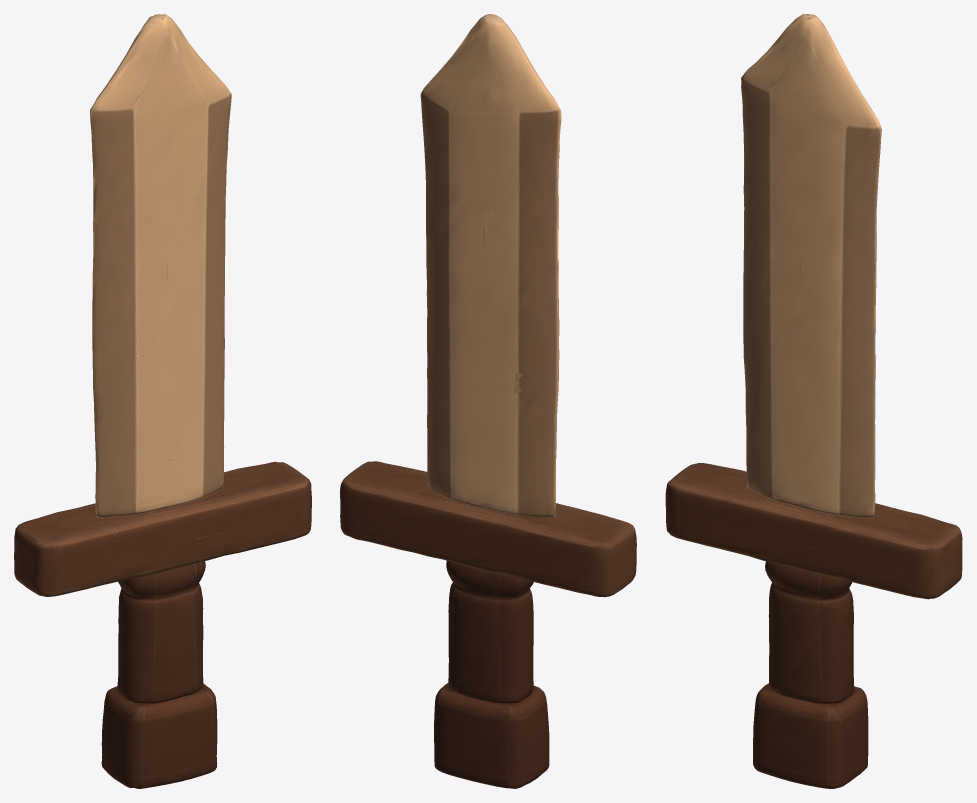
Rendered from 01_木板练习剑.fbx.
3 views of the same model, side by side, from view 1: azimuth 30°, elevation 25°; view 2: azimuth 150°, elevation 25°; view 3: azimuth 330°, elevation 25° (orthographic).
Visible parts, largest first — view 1: Mesh_0; view 2: Mesh_0; view 3: Mesh_0.
Boxes of the visible parts, left/top/right/bottom form: Mesh_0: left=14, top=14, right=311, bottom=788; Mesh_0: left=340, top=14, right=636, bottom=788; Mesh_0: left=665, top=14, right=962, bottom=788.
Size of the model in its own units: 76.82 by 200 by 19.82.
Materials: 1 (1 with a texture image).
